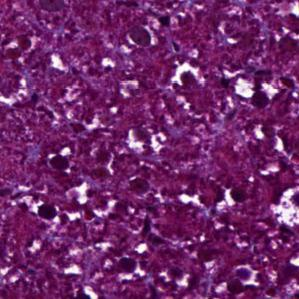inflammation: (31, 199, 63, 226), (174, 64, 205, 87)
